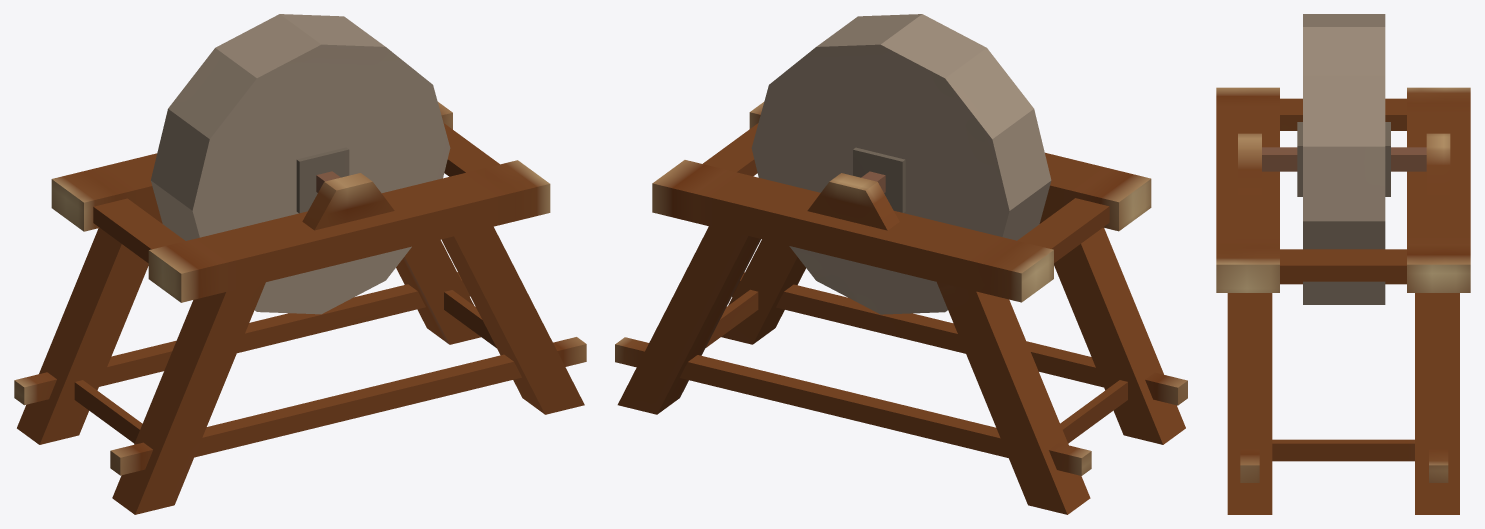
Rendered from kit-grindstone.glb.
3 renders of one model, left to right at view 1: azimuth 30°, elevation 25°; view 2: azimuth 150°, elevation 25°; view 3: azimuth 270°, elevation 25°, orthographic.
Parts seen in each view (by area): view 1: Cylinder.045; view 2: Cylinder.045; view 3: Cylinder.045.
Boxes of the visible parts, x1=… form: Cylinder.045: x1=14, y1=14, x2=586, y2=514; Cylinder.045: x1=615, y1=14, x2=1187, y2=514; Cylinder.045: x1=1216, y1=14, x2=1470, y2=514.
Size of the model in its own units: 1.24 by 0.9838 by 0.5963.
Materials: 1 (1 with a texture image).
